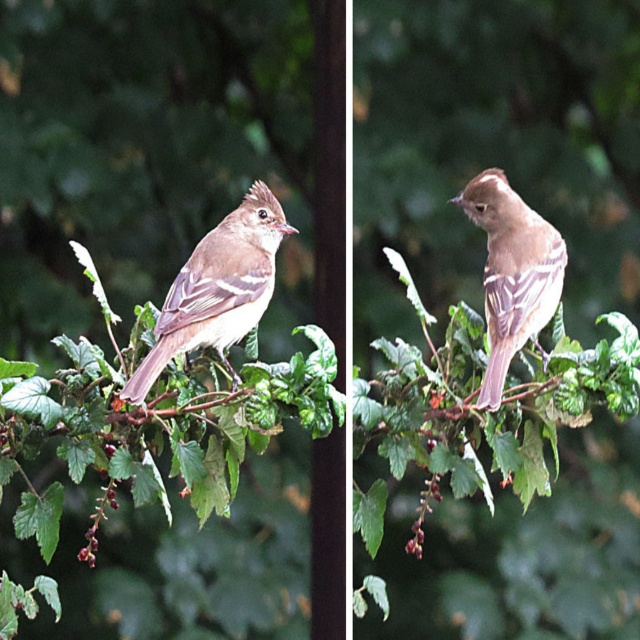Sparrow: (118, 180, 301, 408), (446, 164, 569, 412)
